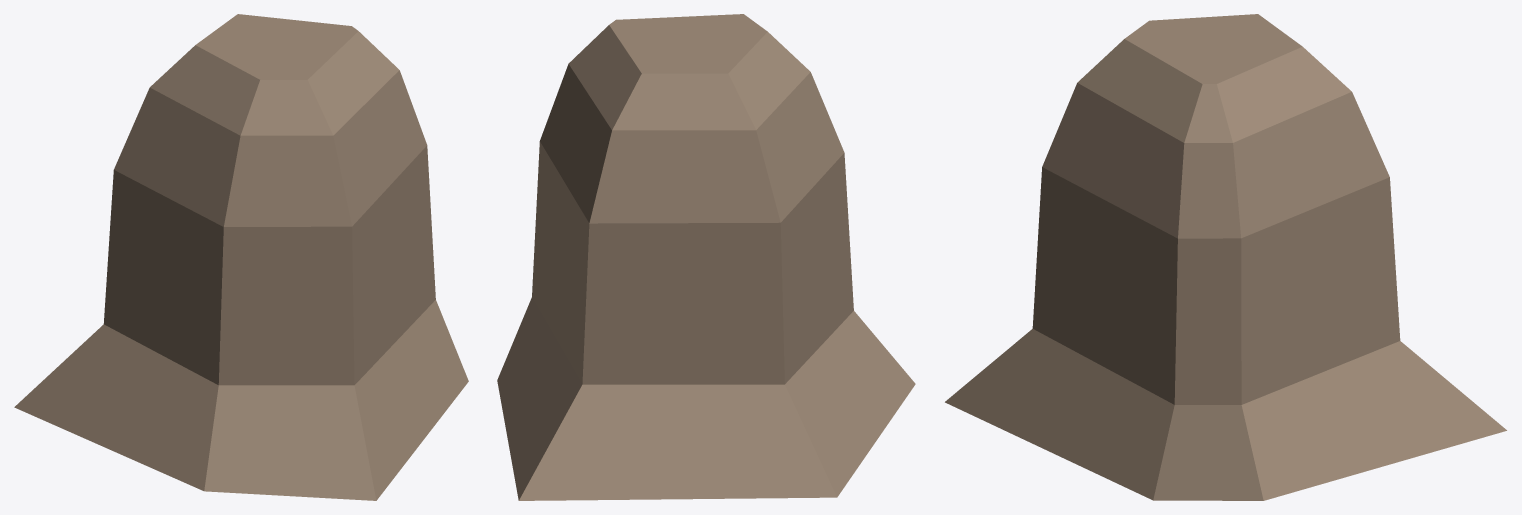
The model's file is mountain3.glb.
3 views of the same model, side by side, from view 1: azimuth 30°, elevation 25°; view 2: azimuth 150°, elevation 25°; view 3: azimuth 270°, elevation 25° (orthographic). The views are drawn at different scales.
Parts seen in each view (by area): view 1: Cylinder.034; view 2: Cylinder.034; view 3: Cylinder.034.
Part boxes in pixels (x1,y1,x2,y2): Cylinder.034: [14, 14, 468, 500]; Cylinder.034: [497, 14, 915, 500]; Cylinder.034: [945, 14, 1506, 500].
Bounding box in the file's own units: 27.04 × 24.84 × 34.07.
